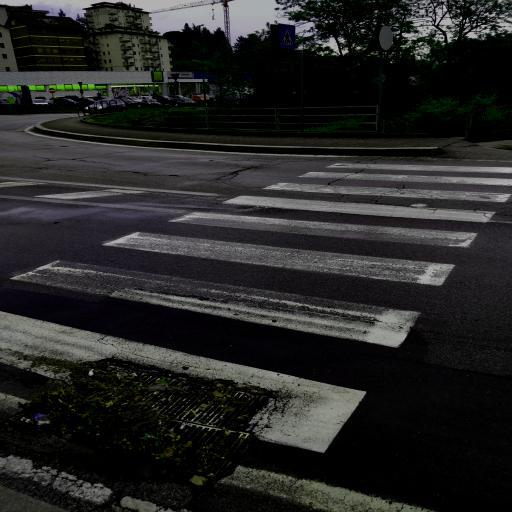crosswalk: (78, 208, 488, 290)
